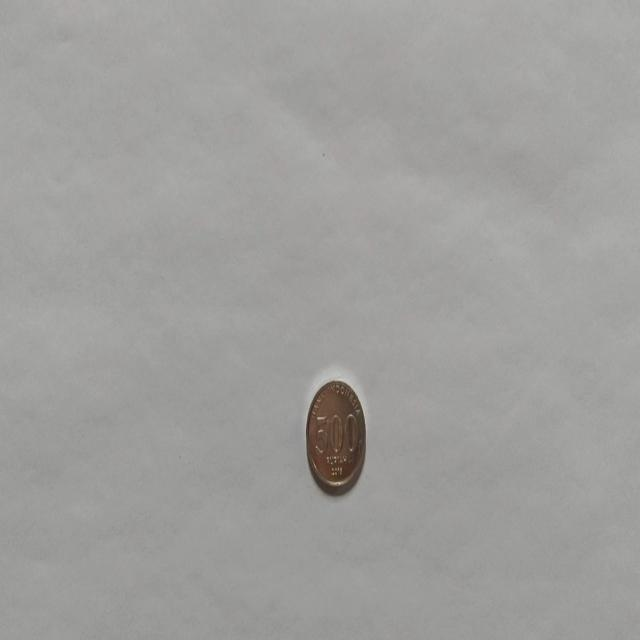lima ratus rupiah: (304, 378, 366, 496)
